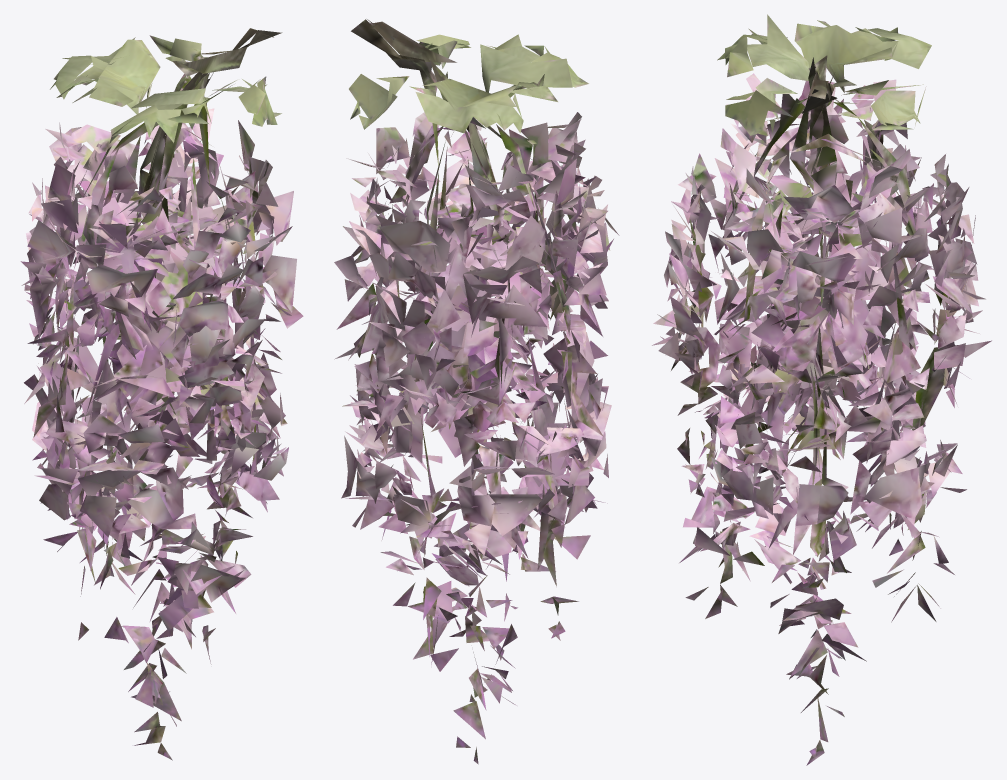
The model's file is wisteria-garden-cluster.glb.
3 renders of one model, left to right at view 1: azimuth 30°, elevation 25°; view 2: azimuth 150°, elevation 25°; view 3: azimuth 270°, elevation 25°, orthographic. The views are drawn at different scales.
Parts seen in each view (by area): view 1: wisteria-garden-cluster-0; view 2: wisteria-garden-cluster-0; view 3: wisteria-garden-cluster-0.
Boxes of the visible parts, x1,y1,x2,y2 form: wisteria-garden-cluster-0: [20, 28, 303, 760]; wisteria-garden-cluster-0: [334, 19, 619, 764]; wisteria-garden-cluster-0: [652, 14, 991, 765].
Bounding box in the file's own units: 0.821 × 2.21 × 0.9323.
1 material, 1 textured.
